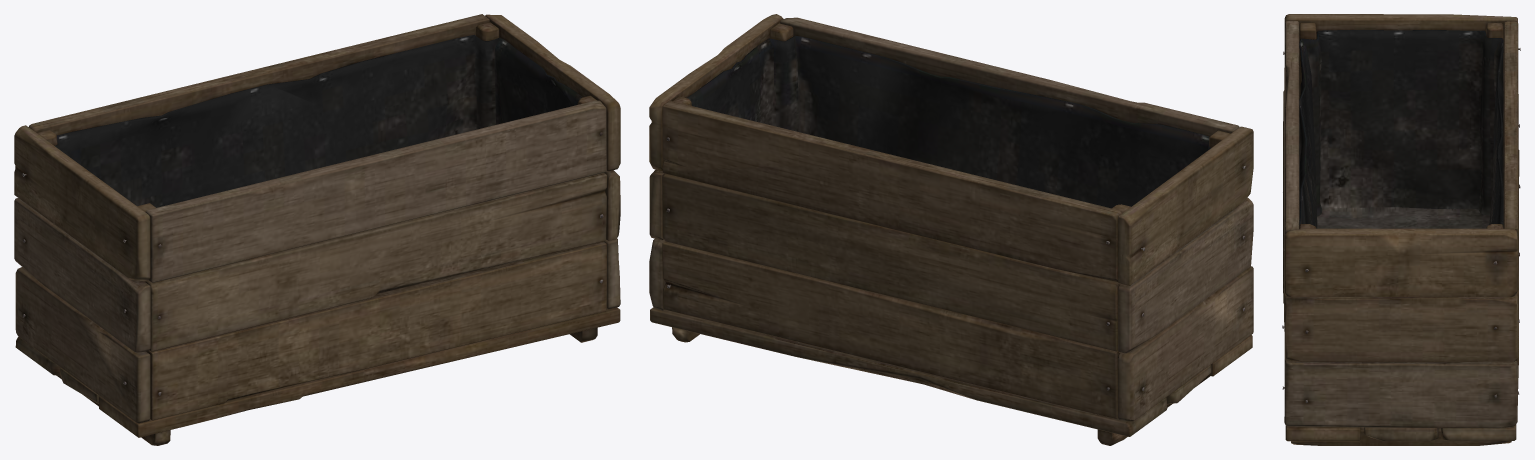
File: planter_box_01_1k.gltf
3 renders of one model, left to right at view 1: azimuth 30°, elevation 25°; view 2: azimuth 150°, elevation 25°; view 3: azimuth 270°, elevation 25°, orthographic. The views are drawn at different scales.
Visible parts, largest first — view 1: planter_box_01; view 2: planter_box_01; view 3: planter_box_01.
Boxes of the visible parts, <box> form: planter_box_01: <box>14,14,620,445</box>; planter_box_01: <box>649,14,1253,445</box>; planter_box_01: <box>1282,14,1520,445</box>.
Bounding box in the file's own units: 0.9126 × 0.425 × 0.4137.
1 material, 1 textured.
